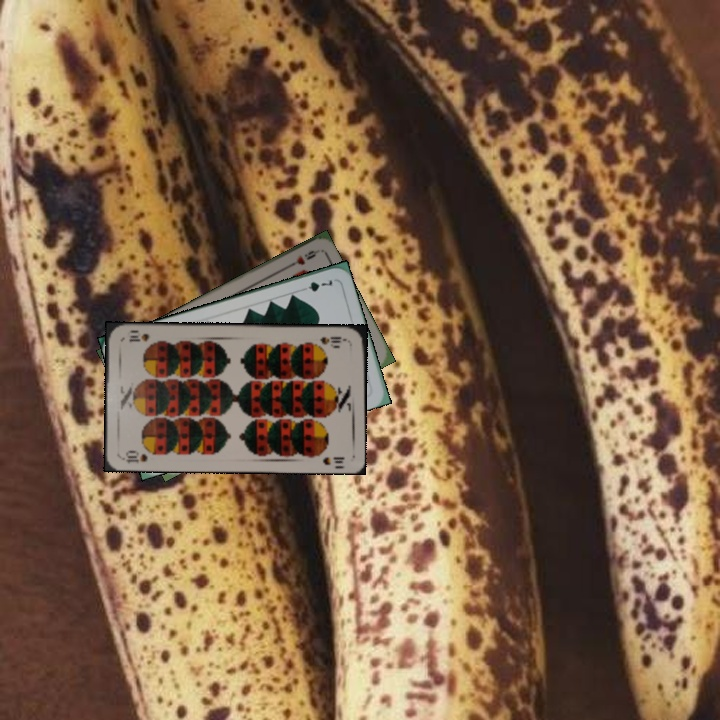G7: (296, 275, 335, 294)
H9: (282, 246, 320, 271)
S10: (120, 447, 150, 465), (316, 333, 350, 348)
